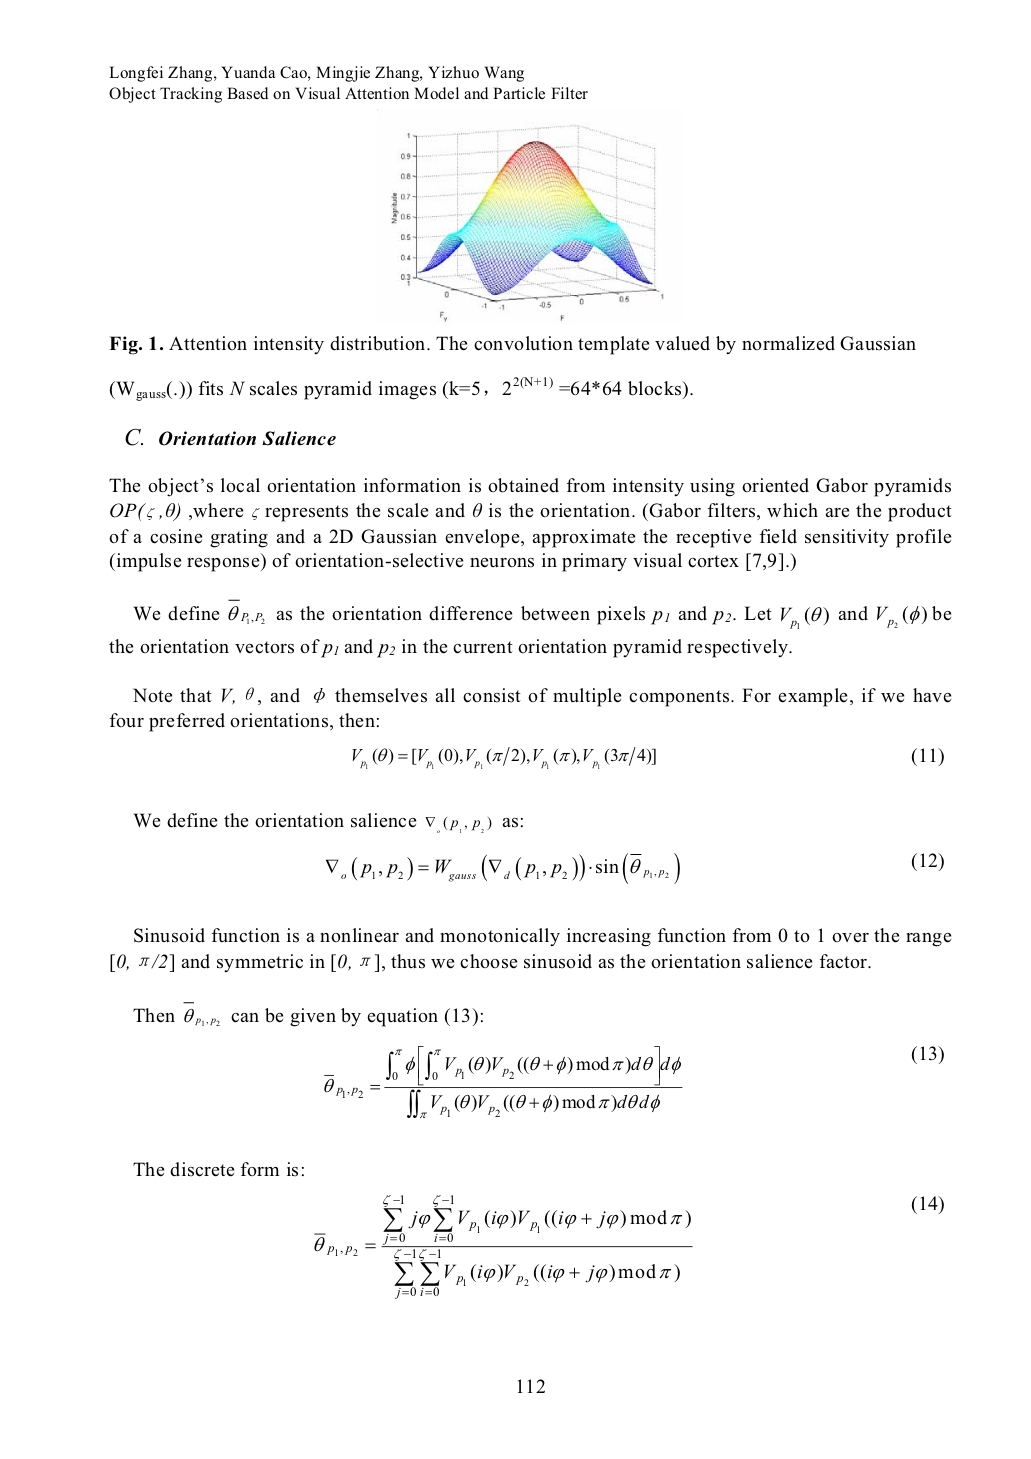figure: (391, 123, 663, 322)
formula: (314, 1194, 943, 1299), (324, 1045, 943, 1119), (326, 852, 943, 885), (351, 746, 943, 769)
